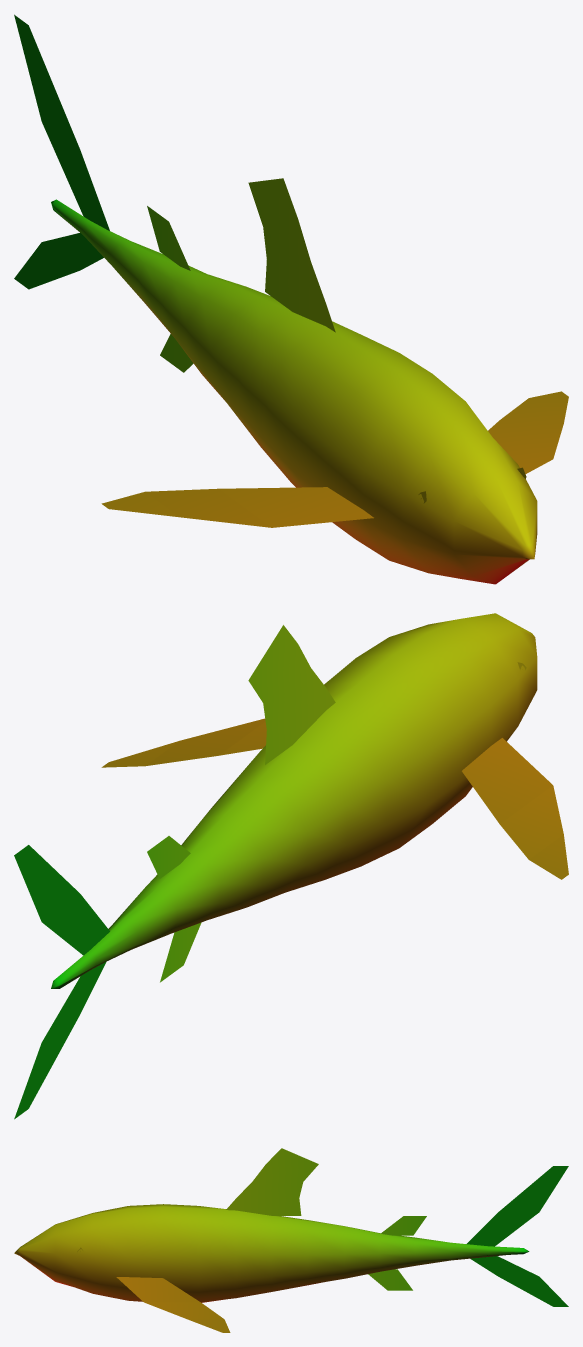
The model's file is basking.glb.
The picture shows the model from 3 angles, top to bottom: view 1: azimuth 30°, elevation 25°; view 2: azimuth 150°, elevation 25°; view 3: azimuth 270°, elevation 25°; orthographic projection. The views are drawn at different scales.
Parts seen in each view (by area): view 1: body; view 2: body; view 3: body.
Boxes of the visible parts, x1,y1,x2,y2 form: body: (14,14,568,584); body: (14,613,568,1119); body: (14,1148,568,1332).
Bounding box in the file's own units: 0.5625 × 0.3477 × 1.1.
